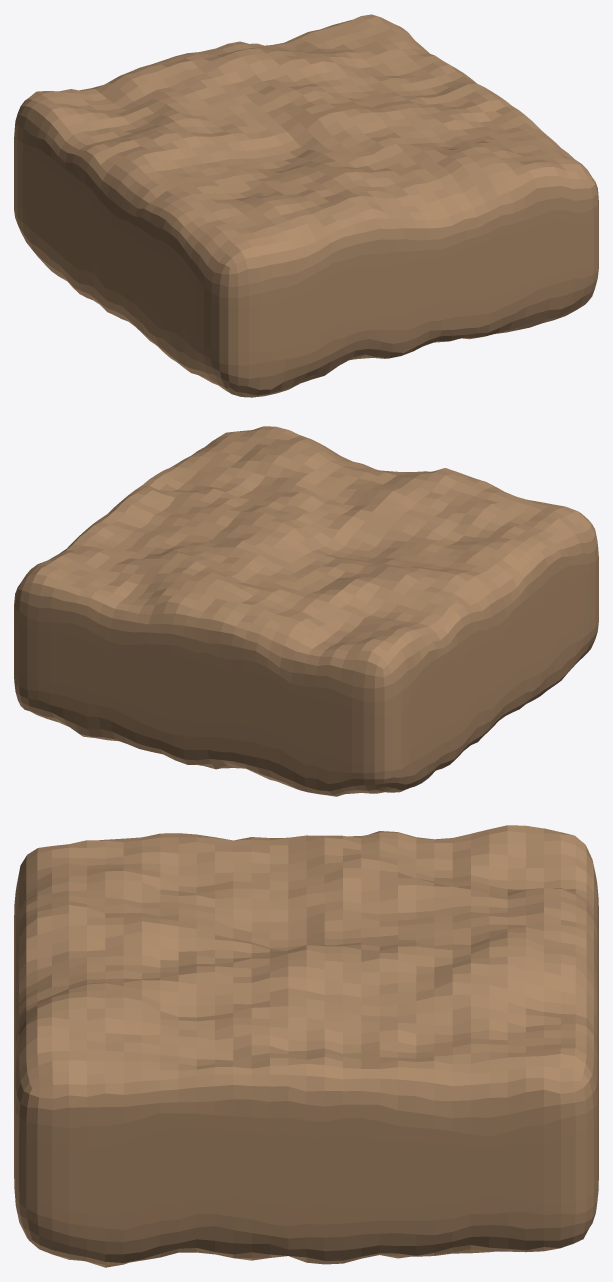
File: dirt2.fbx
3 views of the same model, one above another, from view 1: azimuth 30°, elevation 25°; view 2: azimuth 150°, elevation 25°; view 3: azimuth 270°, elevation 25° (orthographic). The views are drawn at different scales.
Visible parts, largest first — view 1: Cube; view 2: Cube; view 3: Cube.
Part boxes in pixels (x1=…): Cube: x1=14, y1=14, x2=598, y2=397; Cube: x1=14, y1=426, x2=598, y2=796; Cube: x1=14, y1=825, x2=598, y2=1267.
Size of the model in its own units: 200 by 88.16 by 200.
